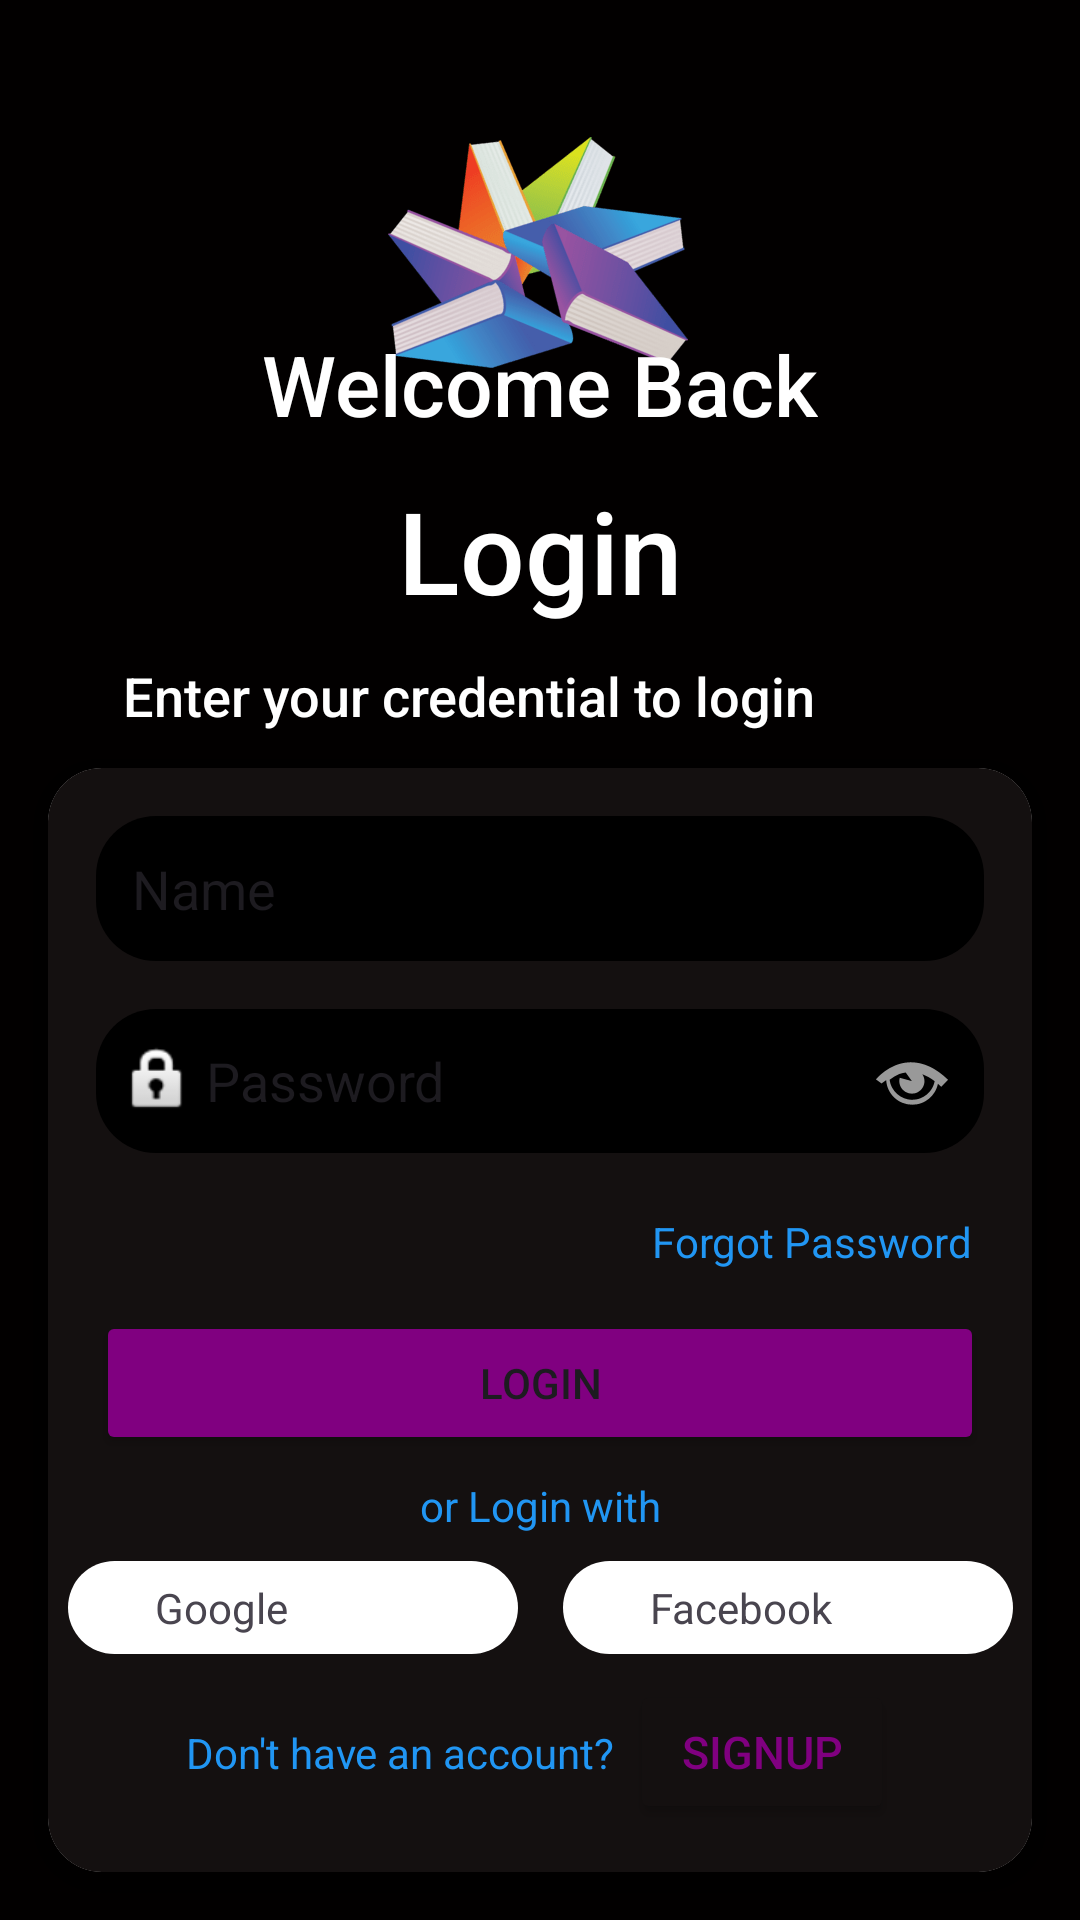

Named icons in this screenshot (1080 x 1920) and their centers, (x,y):
library: (538,269)
